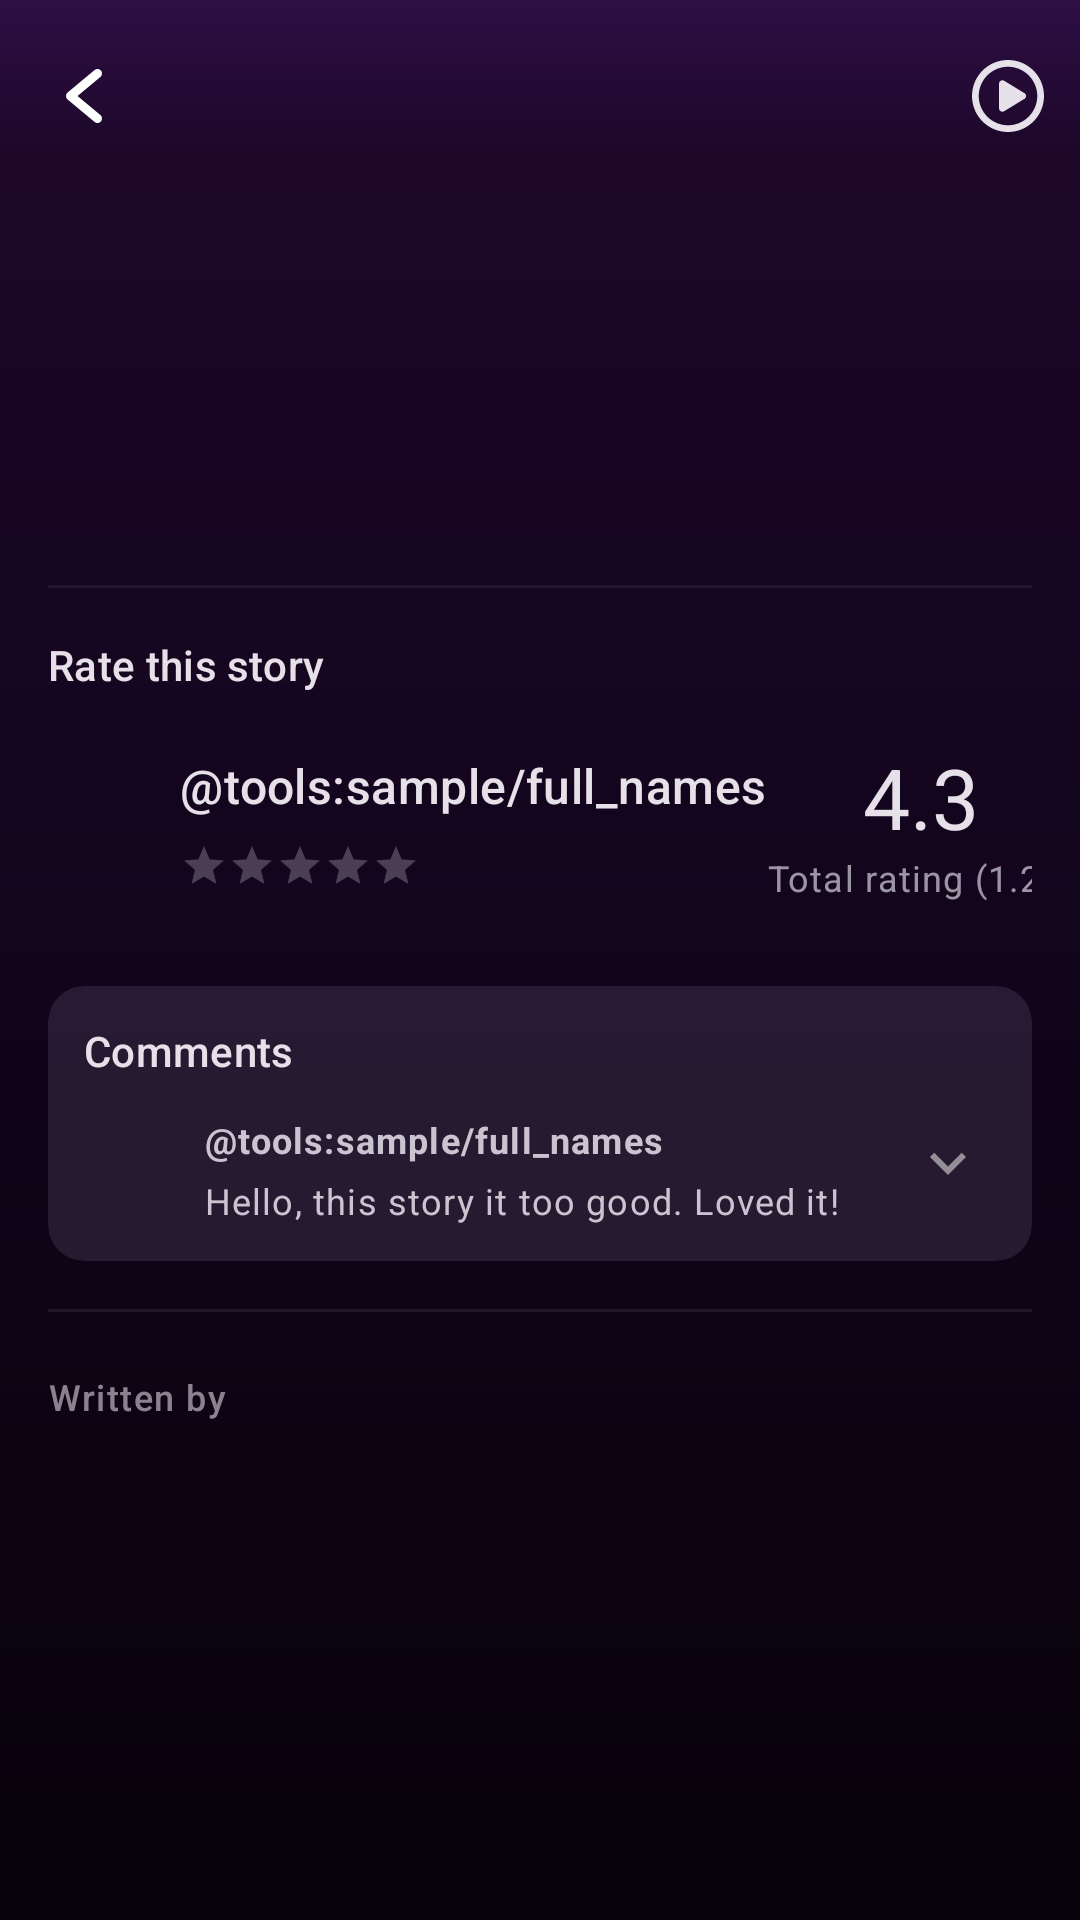

Screen size 1080px×1920px. Icon name, then its center in pixels as (x,y):
expand: (948,1164)
